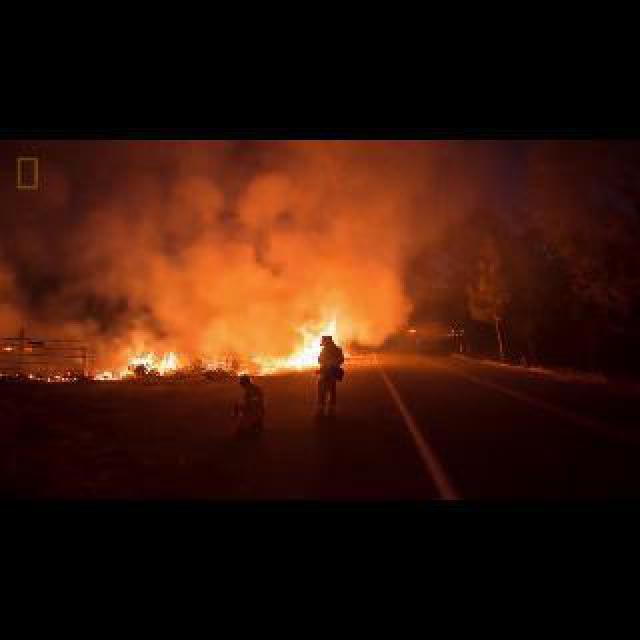Fire: (254, 314, 340, 376), (132, 346, 184, 374), (28, 372, 76, 382), (94, 368, 128, 382), (4, 346, 14, 352)
Smoke: (105, 149, 429, 342)
